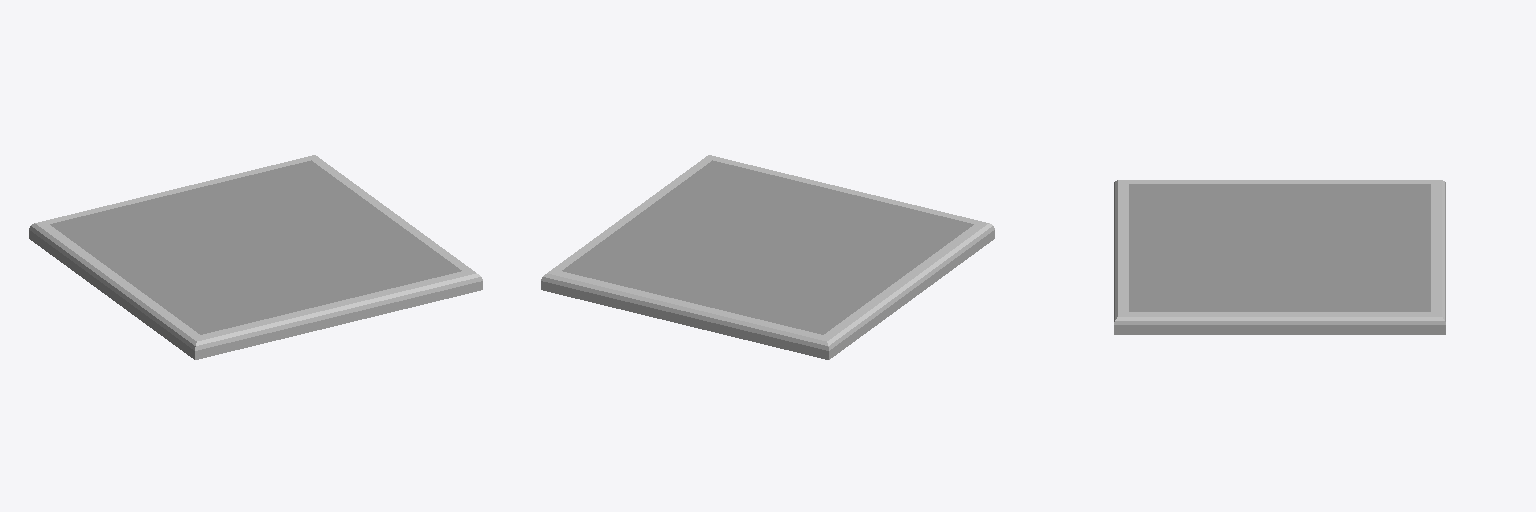
File: checkerboard.obj
3 renders of one model, left to right at view 1: azimuth 30°, elevation 25°; view 2: azimuth 150°, elevation 25°; view 3: azimuth 270°, elevation 25°, orthographic.
Parts seen in each view (by area): view 1: Plane, Top_Cube.001; view 2: Plane, Top_Cube.001; view 3: Plane, Top_Cube.001.
Part boxes in pixels (left/top/right/bottom): Plane: left=50, top=160, right=461, bottom=334; Top_Cube.001: left=29, top=155, right=482, bottom=359; Plane: left=562, top=160, right=973, bottom=334; Top_Cube.001: left=541, top=155, right=994, bottom=359; Plane: left=1129, top=184, right=1430, bottom=311; Top_Cube.001: left=1114, top=180, right=1445, bottom=334.
Bounding box in the file's own units: 0.275 × 0.0151 × 0.275.